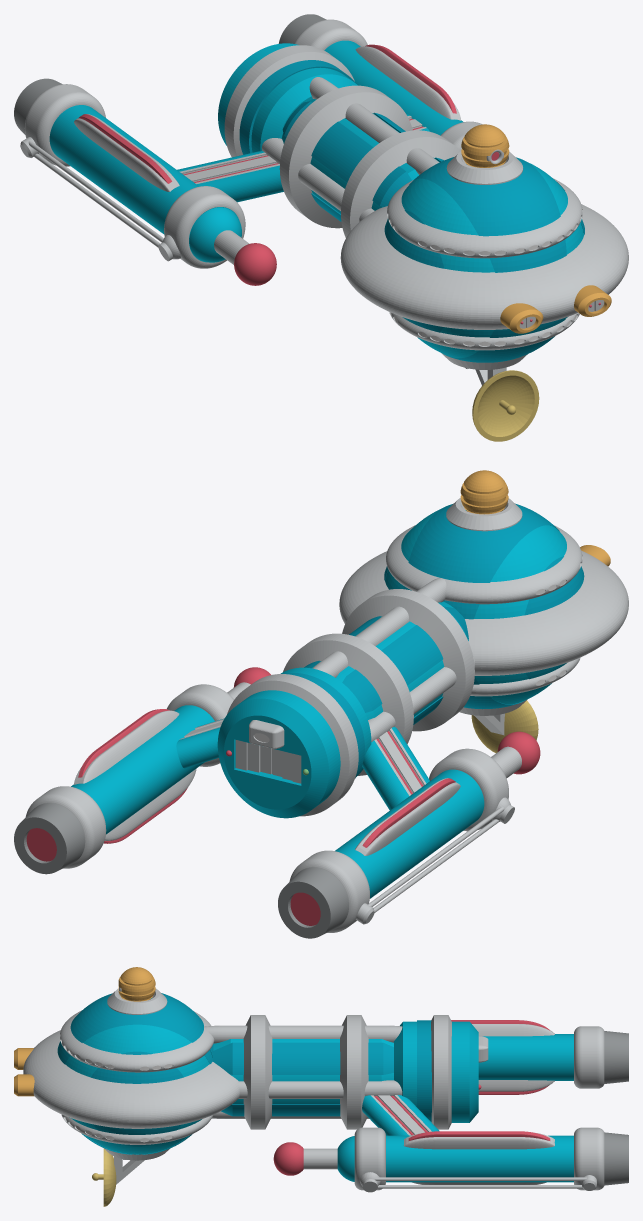
Rendered from Earth Missile Destroyer v3 Series [NEW].glb.
3 views of the same model, one above another, from view 1: azimuth 30°, elevation 25°; view 2: azimuth 150°, elevation 25°; view 3: azimuth 270°, elevation 25° (orthographic). The views are drawn at different scales.
Parts seen in each view (by area): view 1: Mesh_Mesh_head_geo.001_lambert2SG.001; view 2: Mesh_Mesh_head_geo.001_lambert2SG.001; view 3: Mesh_Mesh_head_geo.001_lambert2SG.001.
Part boxes in pixels (bbox=[...]): Mesh_Mesh_head_geo.001_lambert2SG.001: bbox=[14, 14, 628, 441]; Mesh_Mesh_head_geo.001_lambert2SG.001: bbox=[14, 470, 628, 938]; Mesh_Mesh_head_geo.001_lambert2SG.001: bbox=[14, 967, 628, 1206].
Bounding box in the file's own units: 58.83 × 47.74 × 113.
